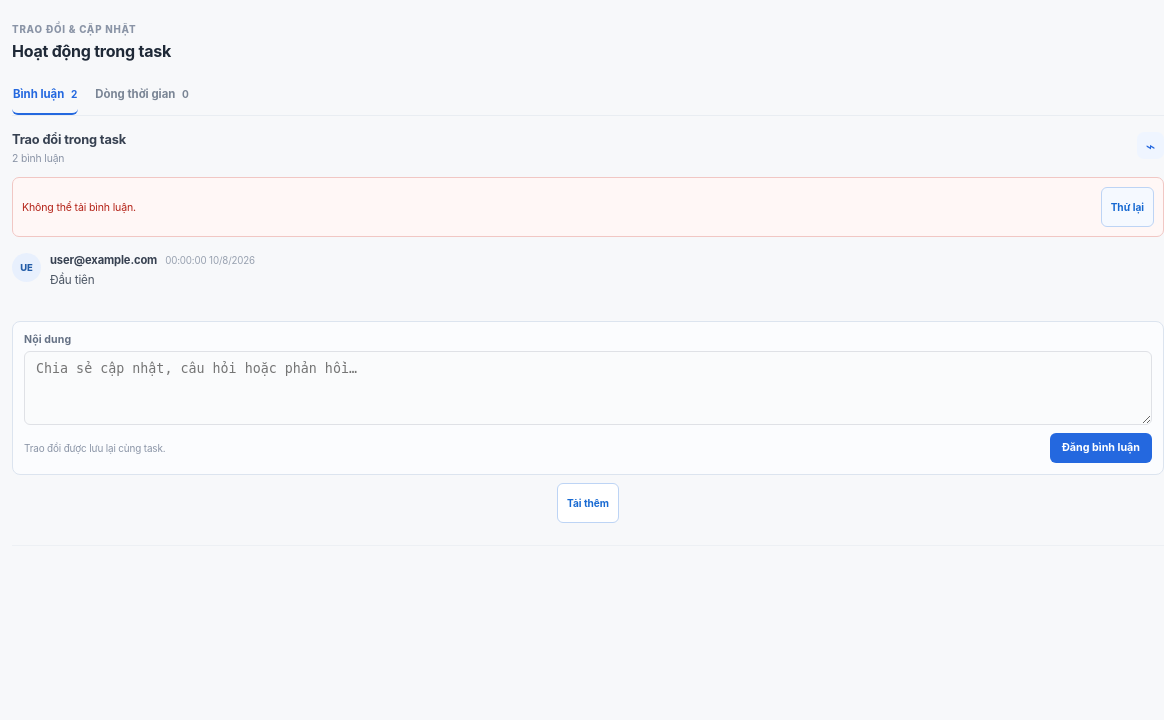
Test case: keeps loaded comments and exposes retry when a later page fails
expect the text "Đầu tiên" is shown: met, box [50, 273, 94, 287]
Click the button "Thử lại".
click(1127, 207)  # box [1101, 187, 1154, 227]
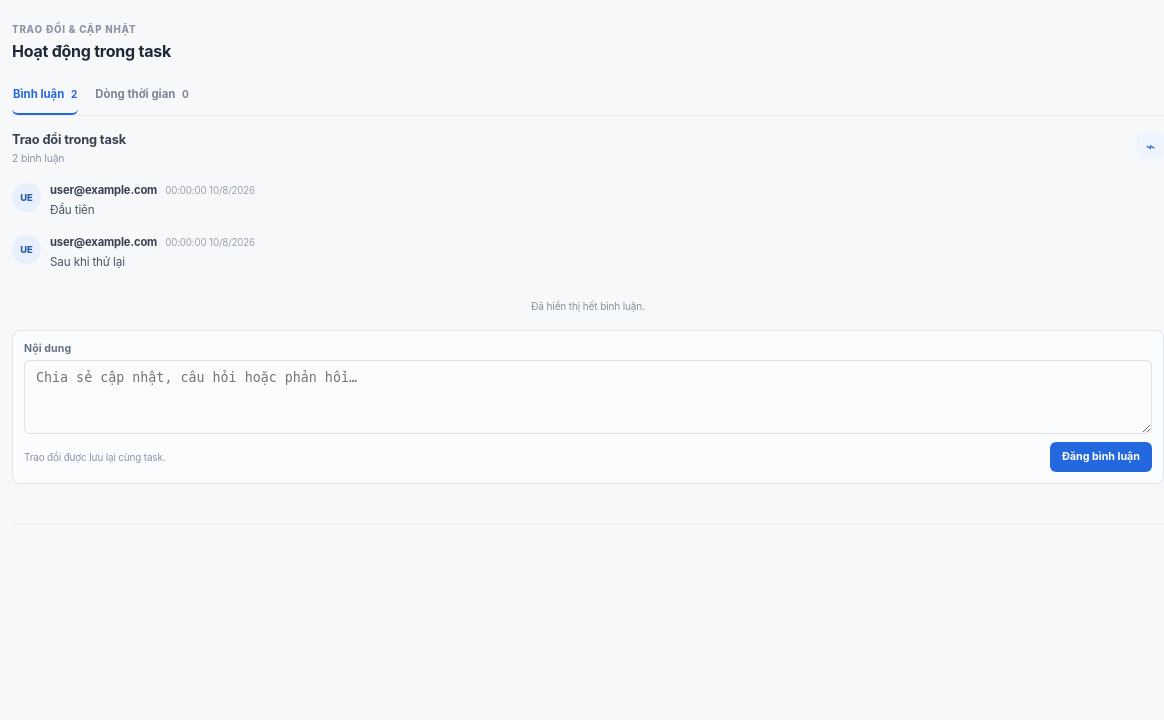
expect the text "Sau khi thử lại" is shown: met, box [50, 255, 125, 269]
